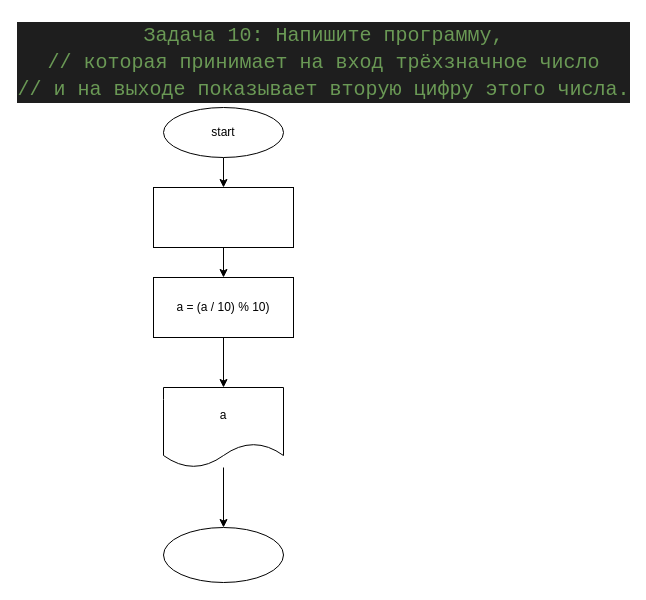
Some shapes in this 646 by 600 pixel diagram are drawn without their labels. The shapes that lost their labels are listed below. From the top down, each one's centre as x and y in pixels, then its label:
At [223,217]: "a = bac".
At [223,554]: "end".
